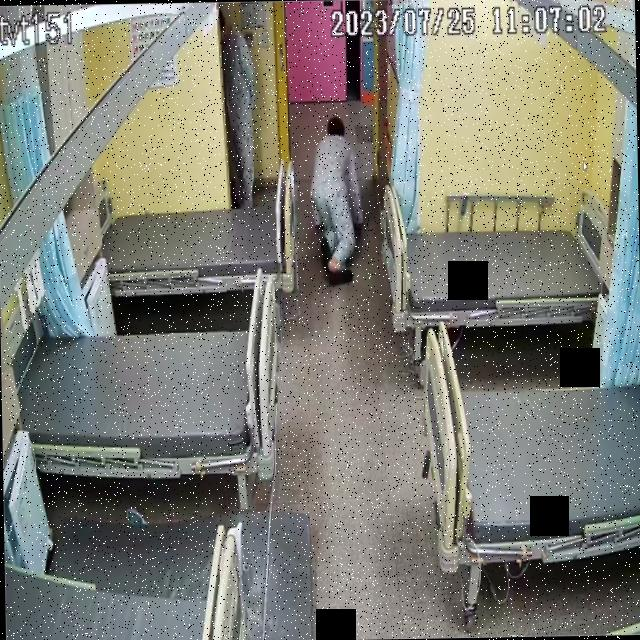bed: (420, 318, 640, 567), (14, 318, 280, 476), (380, 208, 616, 331), (102, 193, 294, 294)
fall: (308, 115, 362, 286)
patient: (308, 116, 364, 286), (221, 1, 258, 207)
stand: (219, 1, 258, 206)
